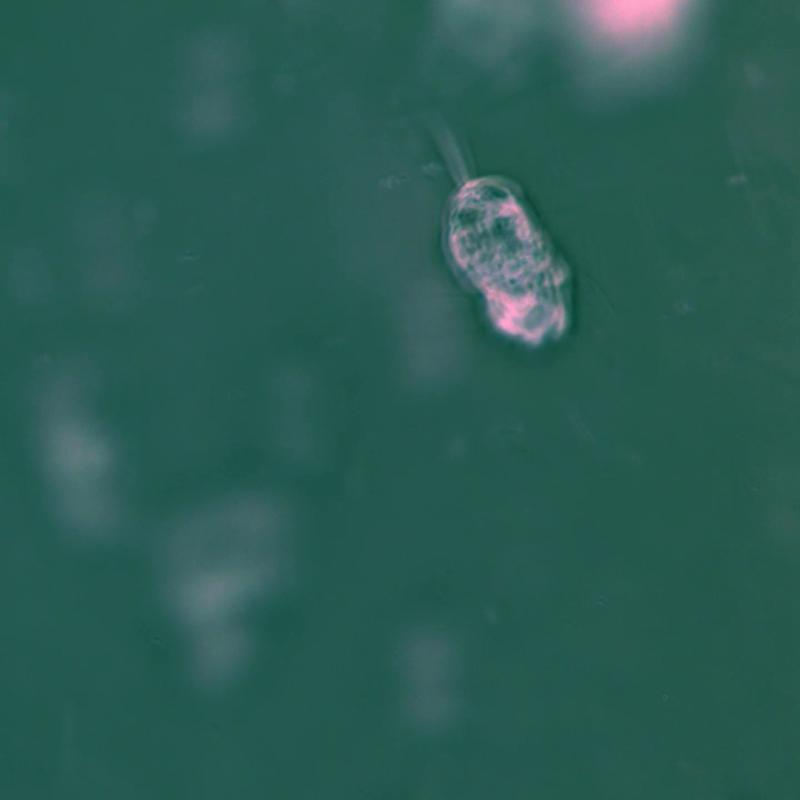depth:40: (383, 71, 632, 394)
